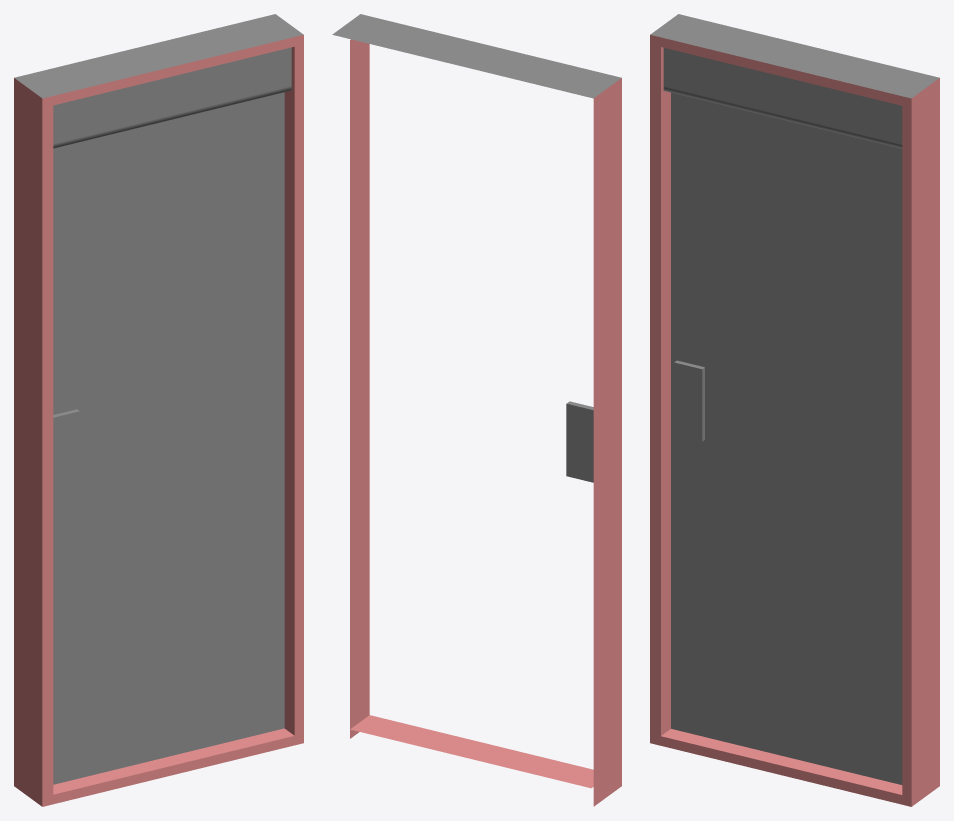
Rendered from S_Envi_Umeda_hall_41.gltf.
3 renders of one model, left to right at view 1: azimuth 30°, elevation 25°; view 2: azimuth 150°, elevation 25°; view 3: azimuth 330°, elevation 25°, orthographic.
Visible parts, largest first — view 1: S_Envi_Umeda_hall_41; view 2: S_Envi_Umeda_hall_41; view 3: S_Envi_Umeda_hall_41.
Boxes of the visible parts, left/top/right/bottom form: S_Envi_Umeda_hall_41: left=14, top=14, right=303, bottom=806; S_Envi_Umeda_hall_41: left=332, top=14, right=621, bottom=806; S_Envi_Umeda_hall_41: left=650, top=14, right=939, bottom=806.
Bounding box in the file's own units: 1.16 × 3 × 0.2177.
